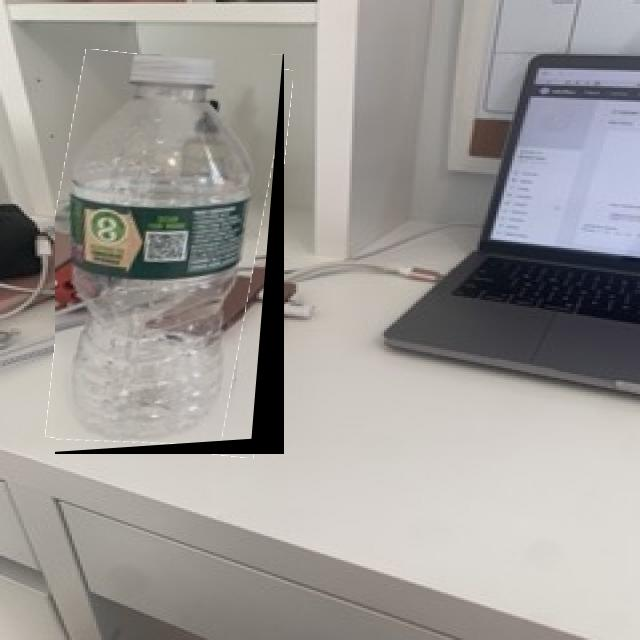water_bottle: (55, 54, 284, 454)
